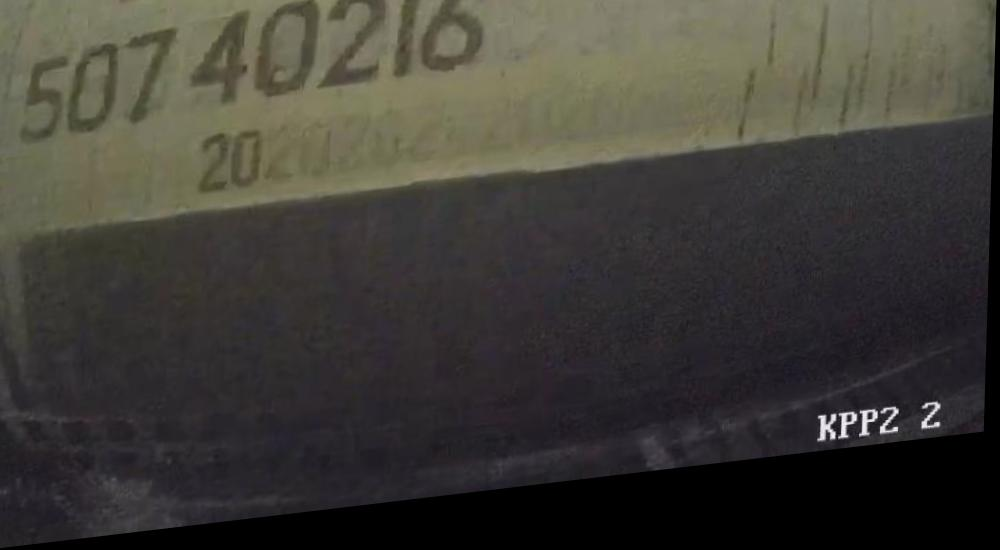Wagon-number: (16, 0, 495, 149)
